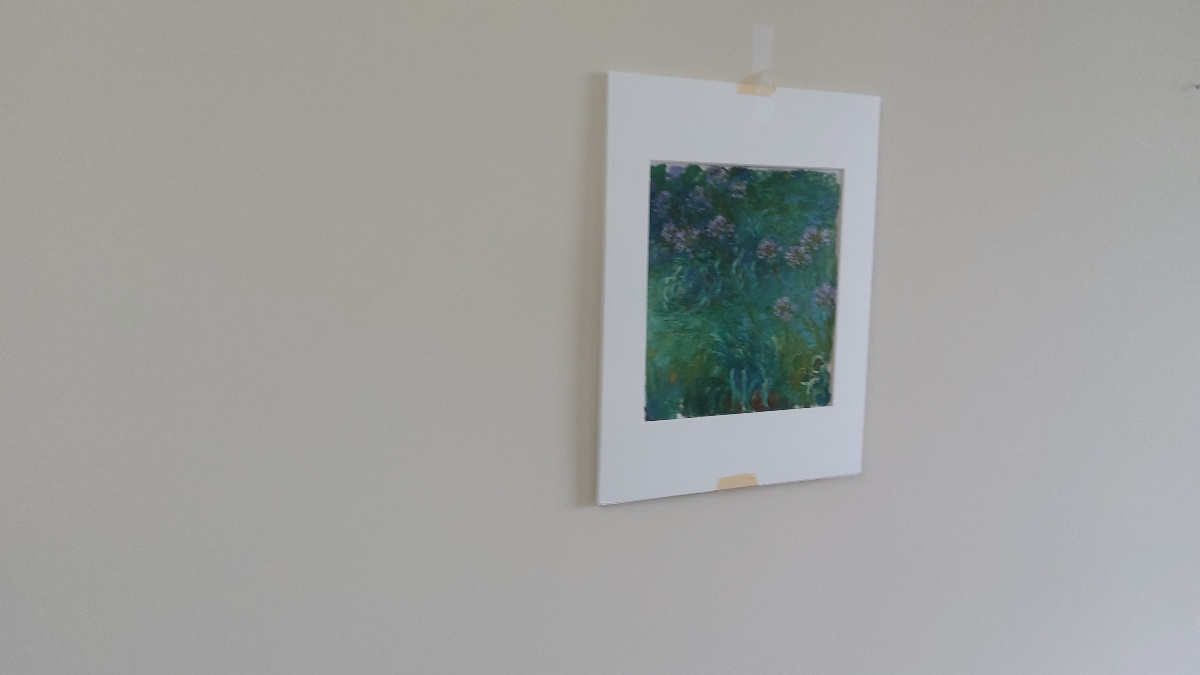painting: (644, 141, 851, 444)
